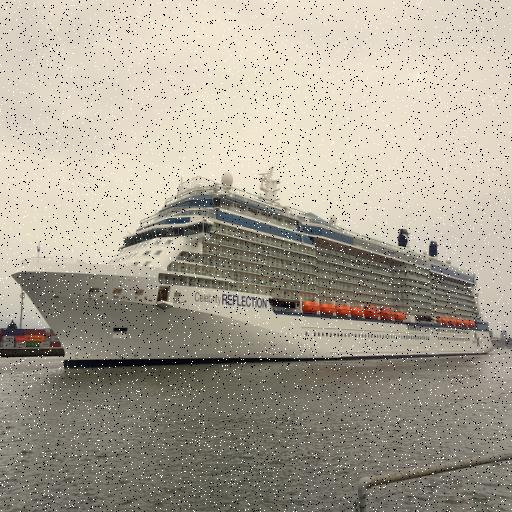cruises: (9, 156, 496, 373)
